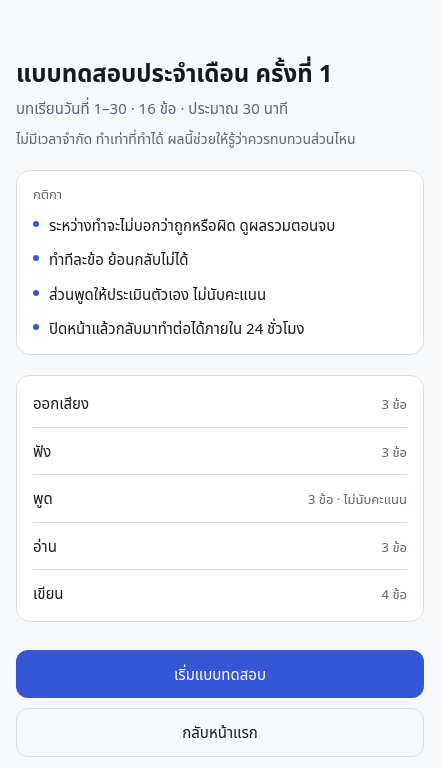
CheckpointApp › opens on the intro, and the start button opens the first exercise with the whole-set counter
Expected: the heading "แบบทดสอบประจำเดือน ครั้งที่ 1" is shown, [16,56,333,89]
What coordinates should you click on to do the following:
click the button "เริ่มแบบทดสอบ"
I would click on:
 (220, 674)
Its box is [16,650,424,698].
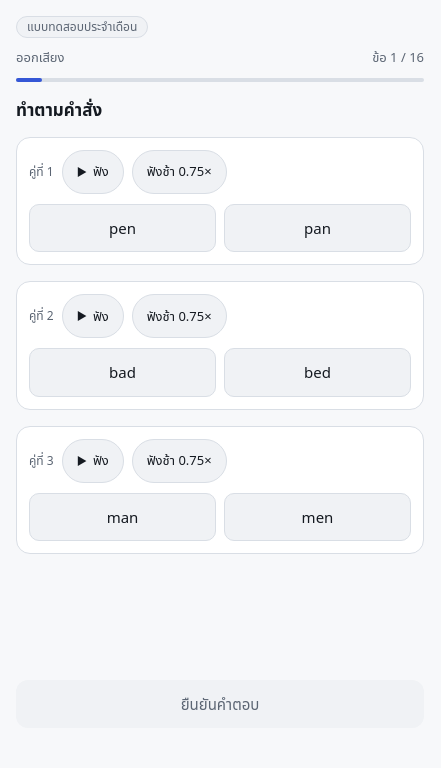
Result: the text "ข้อ 1 / 16" is shown at [372,48,424,68]
